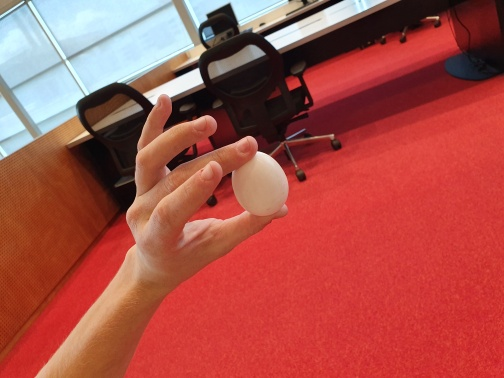egg: (232, 152, 289, 216)
